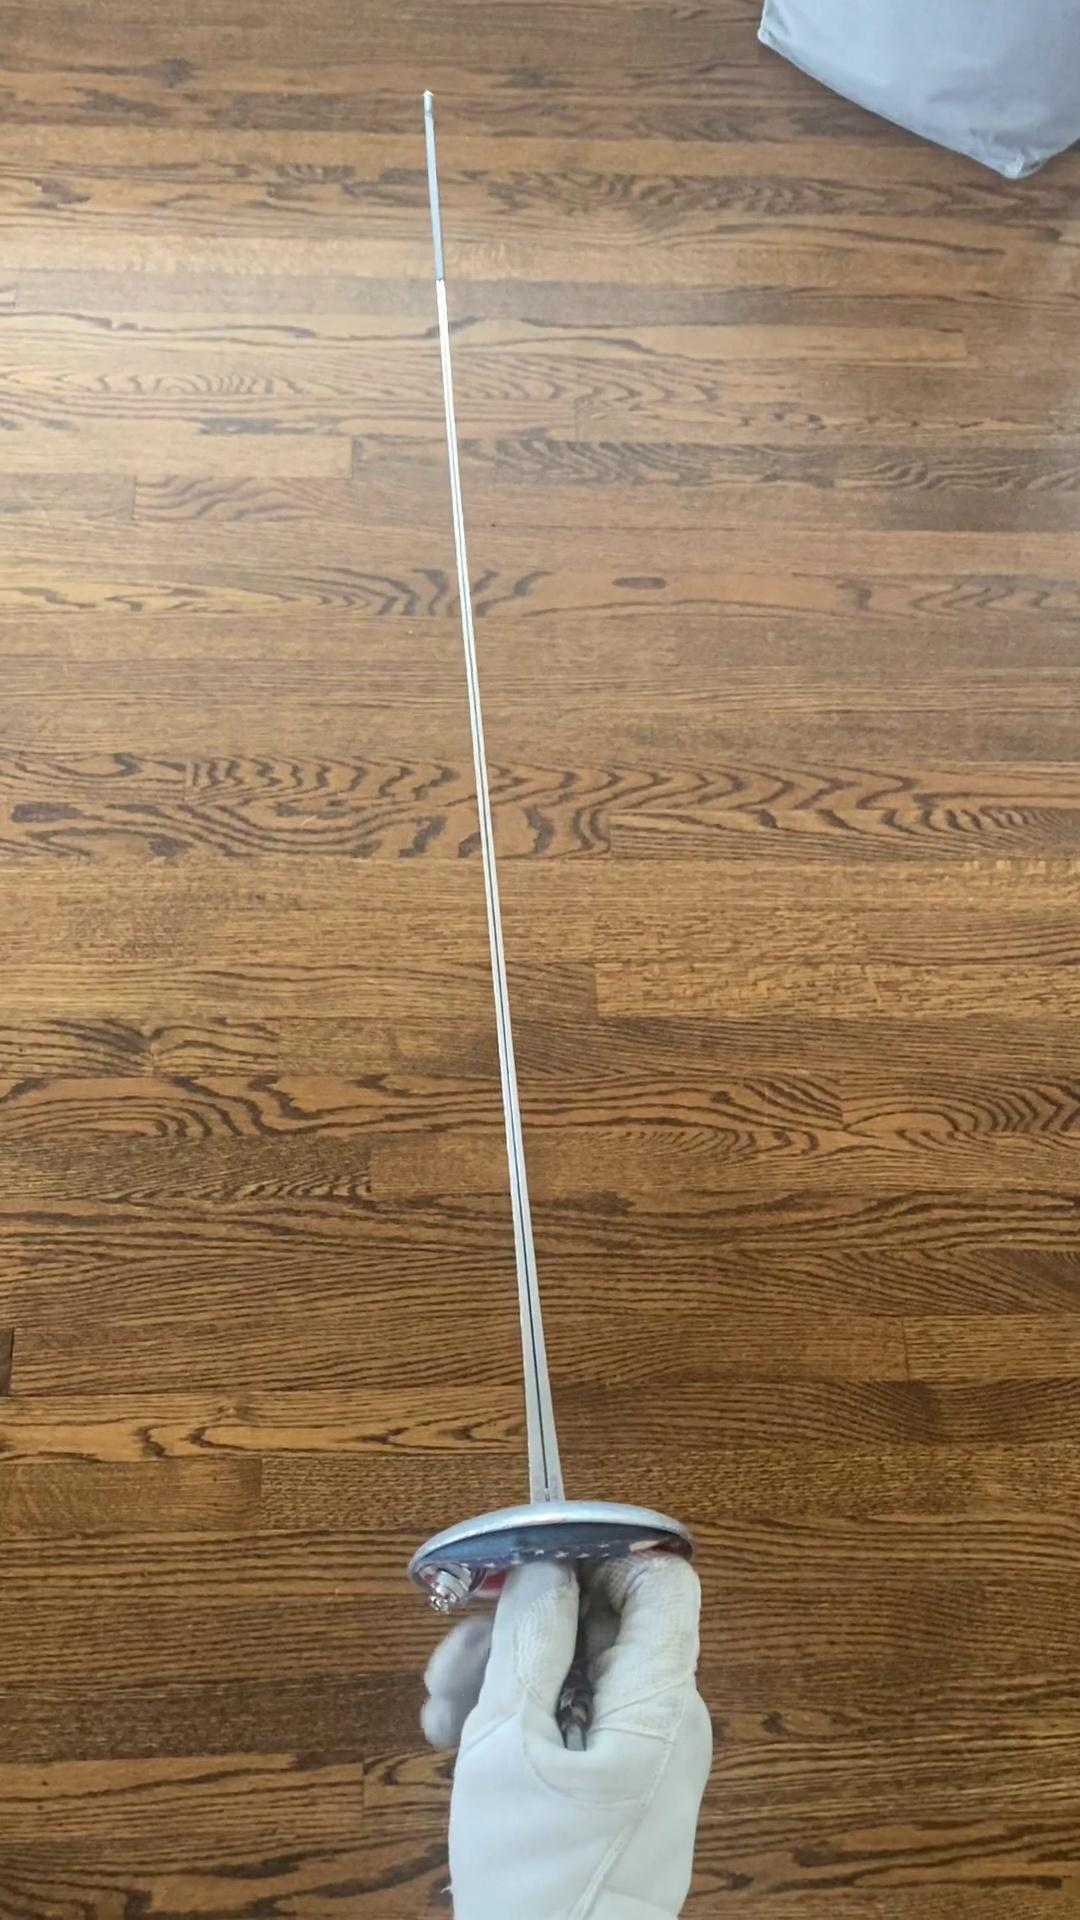blade-guard: (400, 1489, 702, 1627)
blade-tip: (419, 82, 458, 303)
fencing-blade: (393, 55, 702, 1832)
